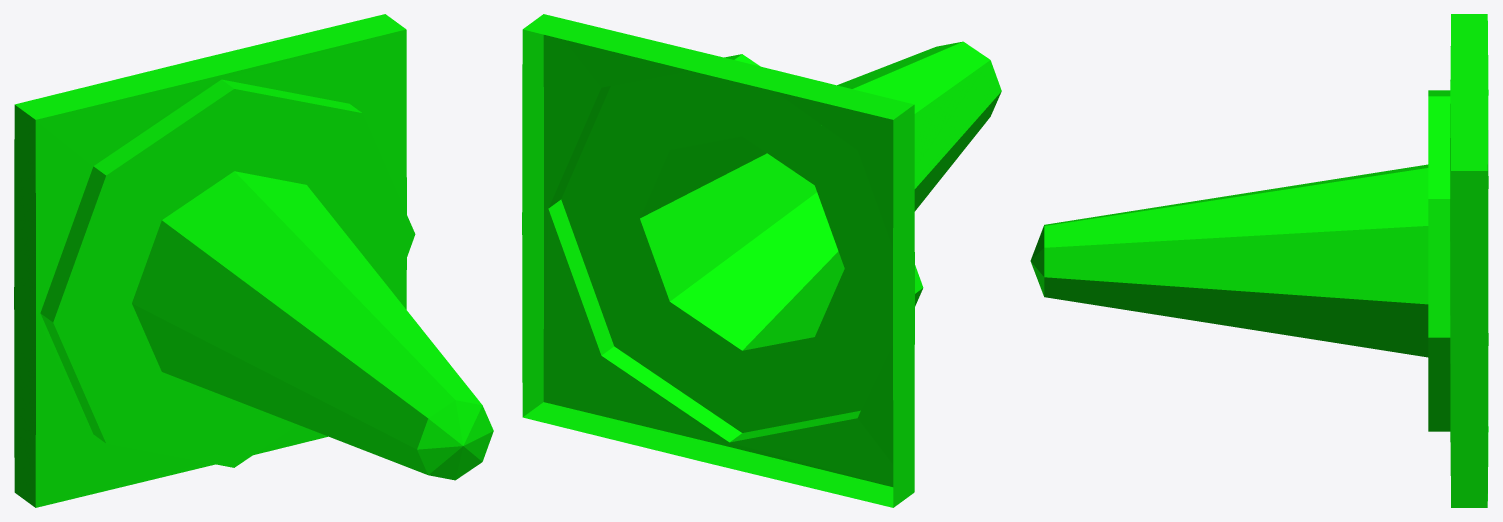
File: barrier_success1.dae
3 renders of one model, left to right at view 1: azimuth 30°, elevation 25°; view 2: azimuth 150°, elevation 25°; view 3: azimuth 270°, elevation 25°, orthographic. The views are drawn at different scales.
Visible parts, largest first — view 1: node; view 2: node; view 3: node.
Boxes of the visible parts, bbox=[...] form: node: bbox=[14, 14, 493, 507]; node: bbox=[522, 14, 1001, 507]; node: bbox=[1030, 14, 1488, 507].
Size of the model in its own units: 0.2888 by 0.2888 by 0.3559.
Materials: 1 (1 with a texture image).
